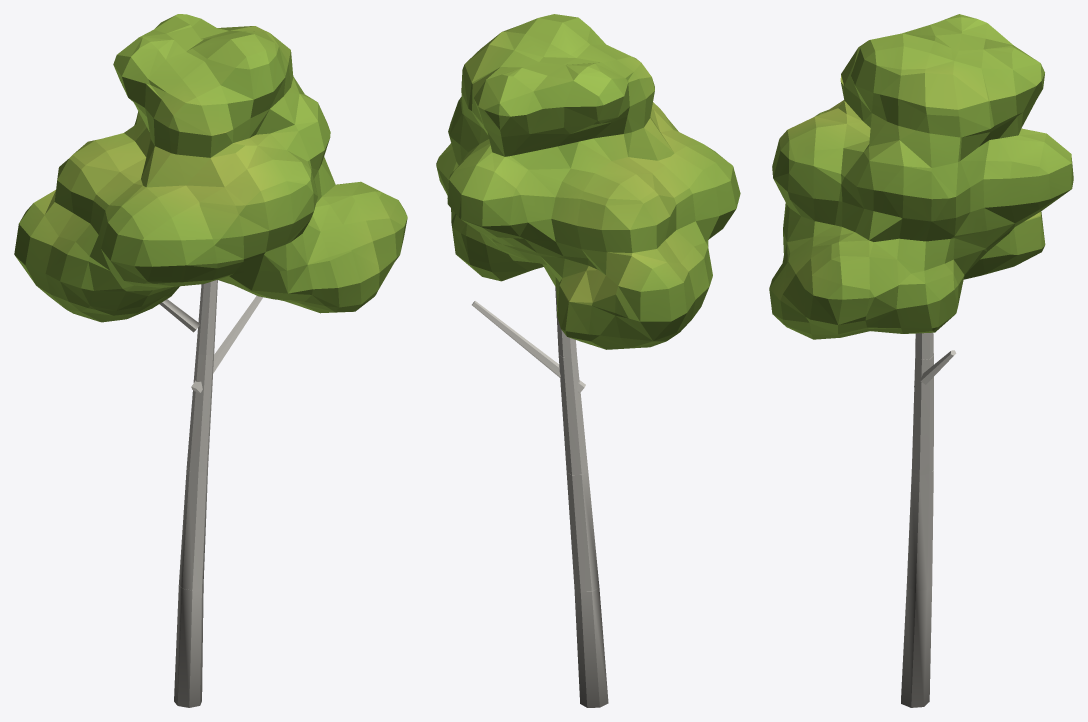
The model's file is tree_birch.glb.
3 views of the same model, side by side, from view 1: azimuth 30°, elevation 25°; view 2: azimuth 150°, elevation 25°; view 3: azimuth 270°, elevation 25° (orthographic). The views are drawn at different scales.
Parts seen in each view (by area): view 1: BirchCrown, Birch; view 2: BirchCrown, Birch; view 3: BirchCrown, Birch.
Part boxes in pixels (<box>): BirchCrown: <box>14,14,407,322</box>; Birch: <box>159,280,262,707</box>; BirchCrown: <box>436,14,740,349</box>; Birch: <box>472,287,608,707</box>; BirchCrown: <box>769,14,1073,339</box>; Birch: <box>901,332,956,707</box>.
Size of what is drawn, in the model's own units: 4.2 by 8.55 by 3.43.
